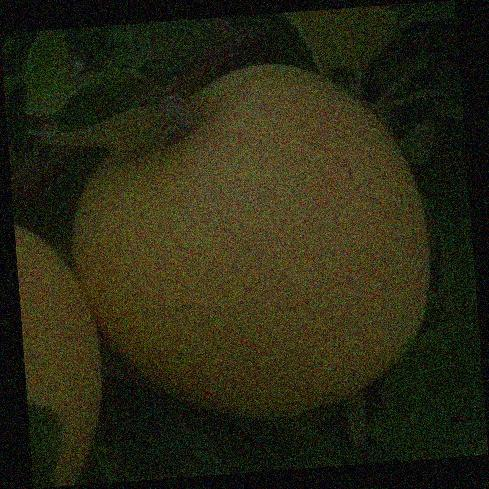green apple: (72, 60, 445, 427)
